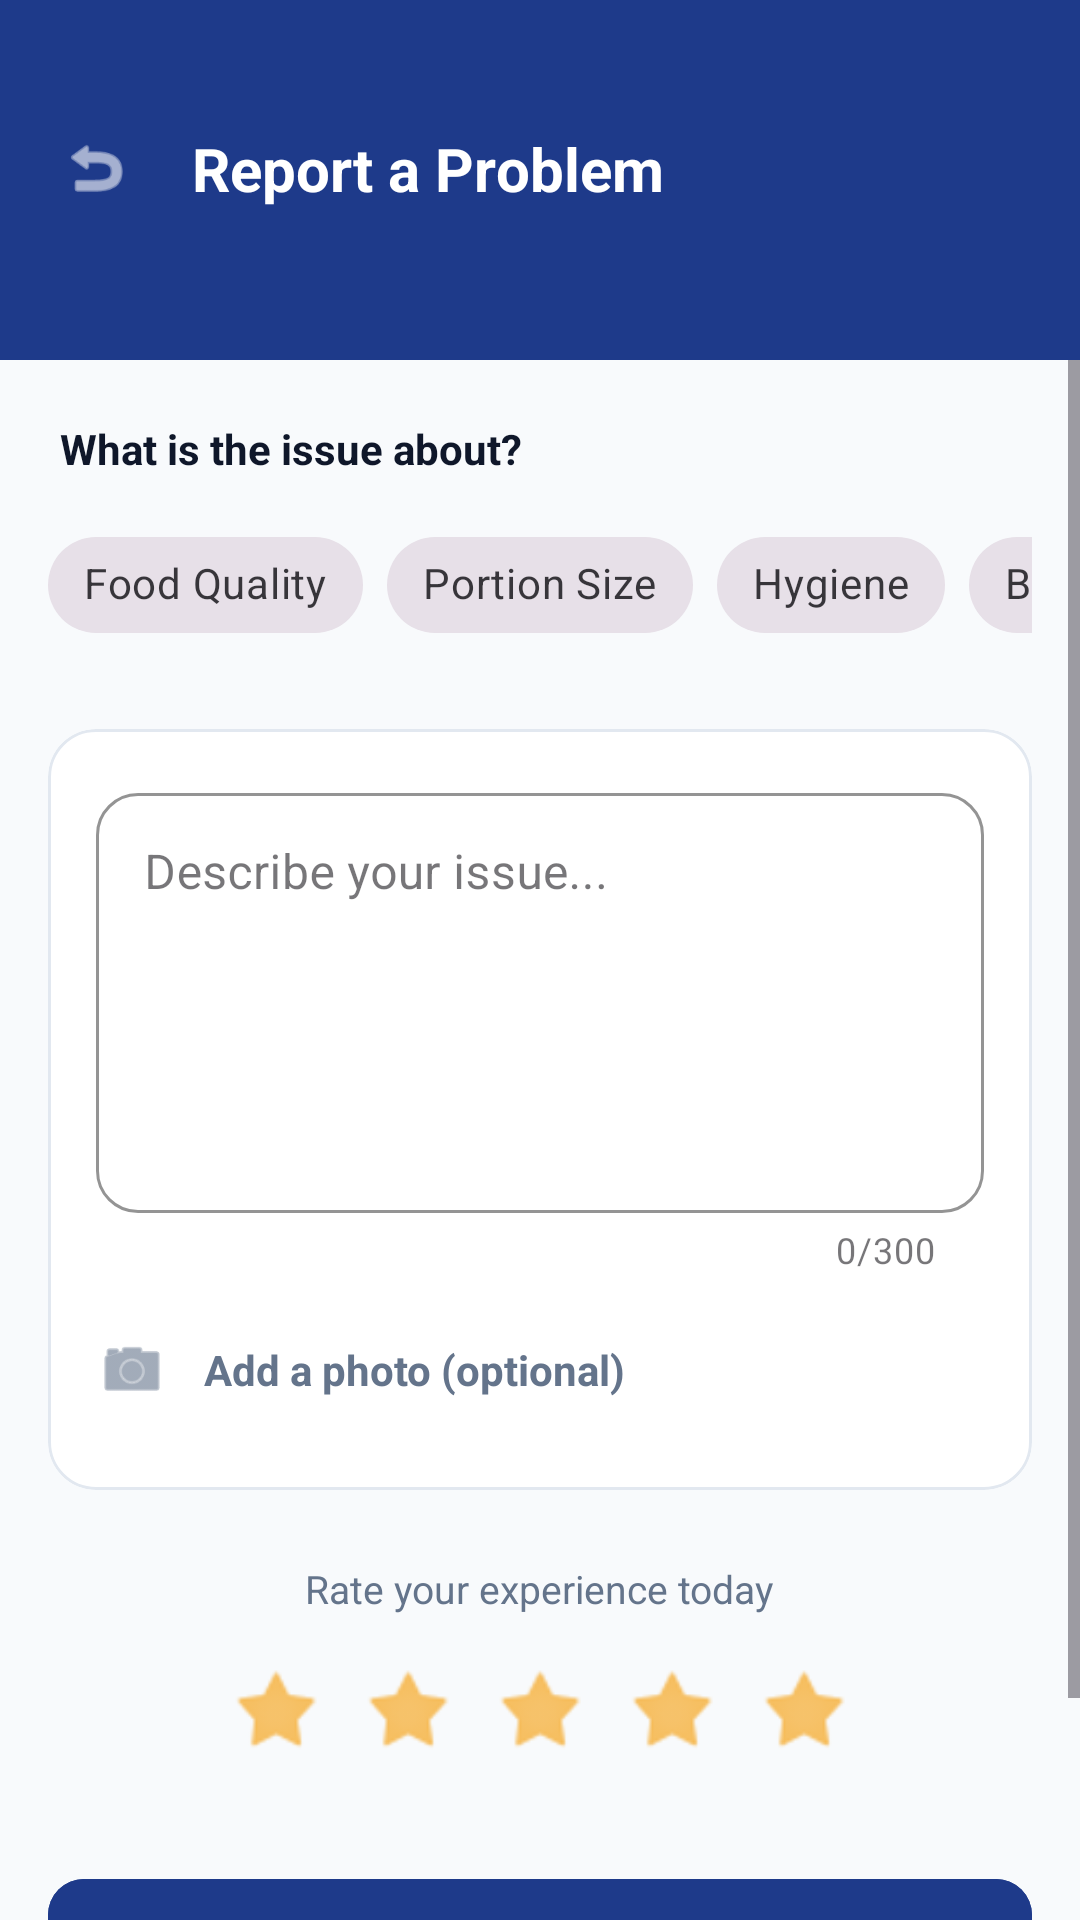

Icon bounding boxes for this 1080 x 1920 phone screenshot, format (x1, y1, x2, y2):
camera: (104, 1347, 160, 1391)
revert: (71, 145, 123, 192)
